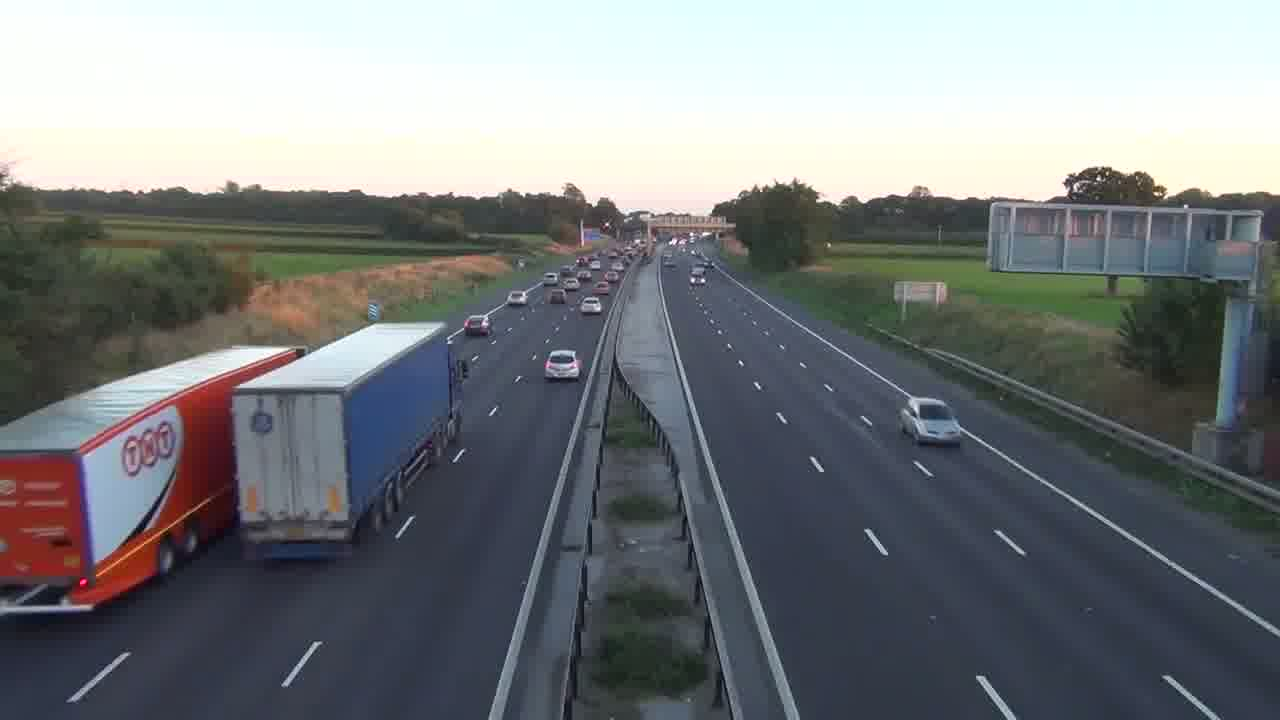car: (897, 396, 962, 447), (544, 349, 581, 381), (463, 313, 493, 337), (507, 289, 528, 306)
